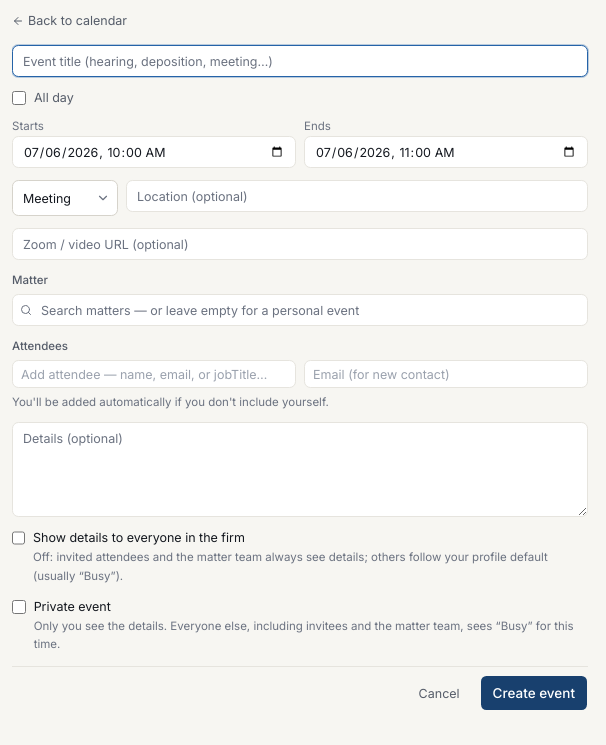
error handling › a validation error keeps what the user typed
Type "Hearing" into the field with placeholder "Event title (hearing, deposition, meeting…)".
click(300, 61); type("Hearing")  # box [12,45,588,77]
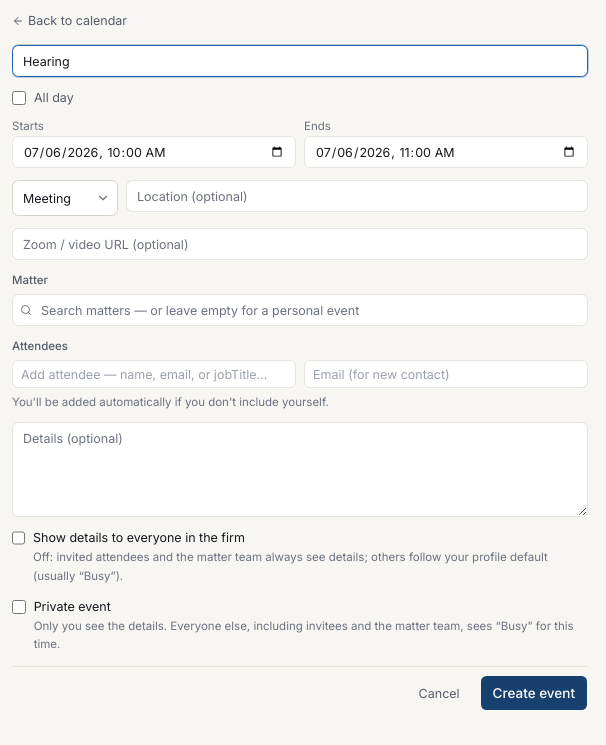
Type "Courtroom 5B" into the field with placeholder "Location (optional)".
click(357, 196); type("Courtroom 5B")  # box [126,180,588,212]
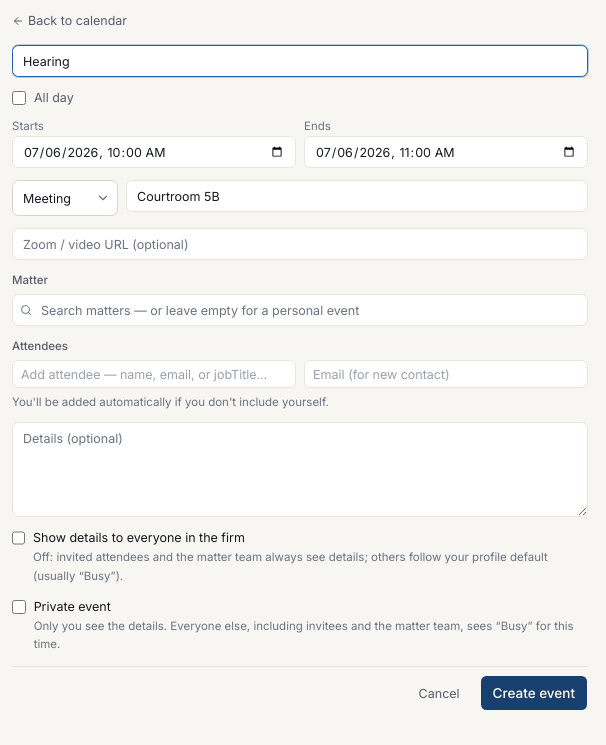
Submit the form named "create event"
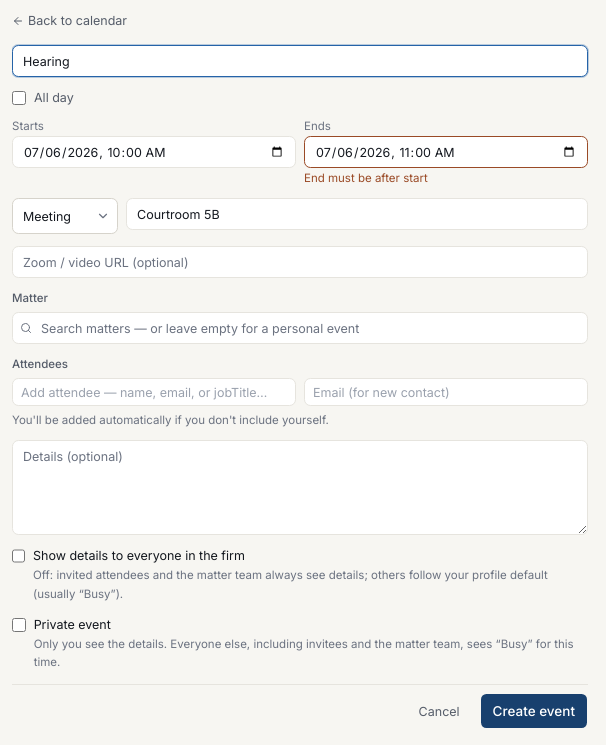
Check: the text "End must be after start" is shown, box [304,171,428,185]
